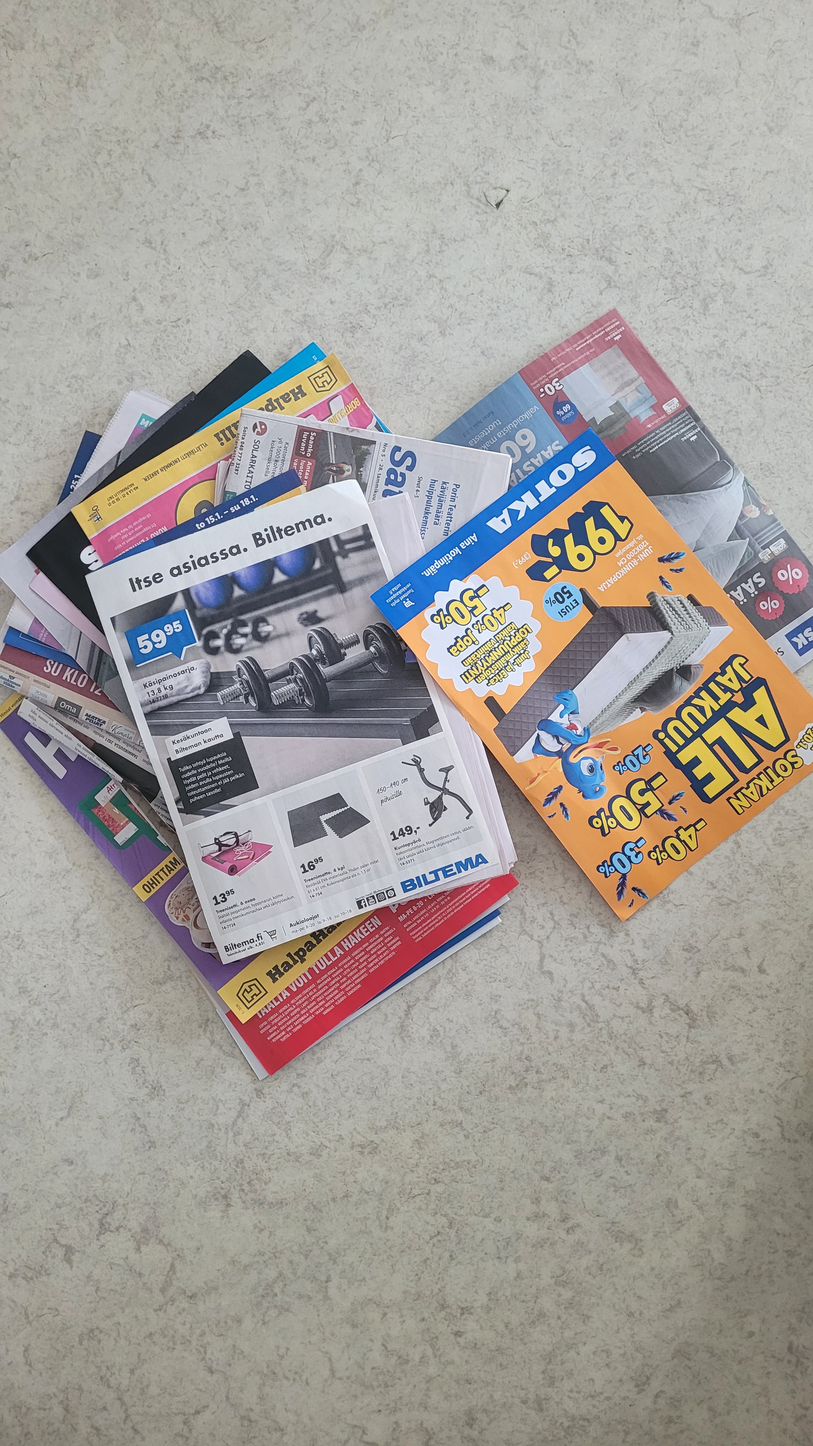paper: (0, 304, 813, 1095)
